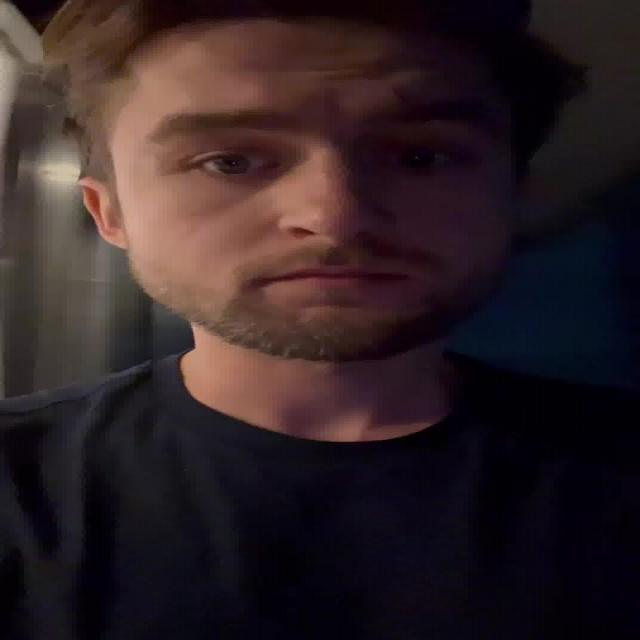earlobe: (80, 176, 128, 252)
